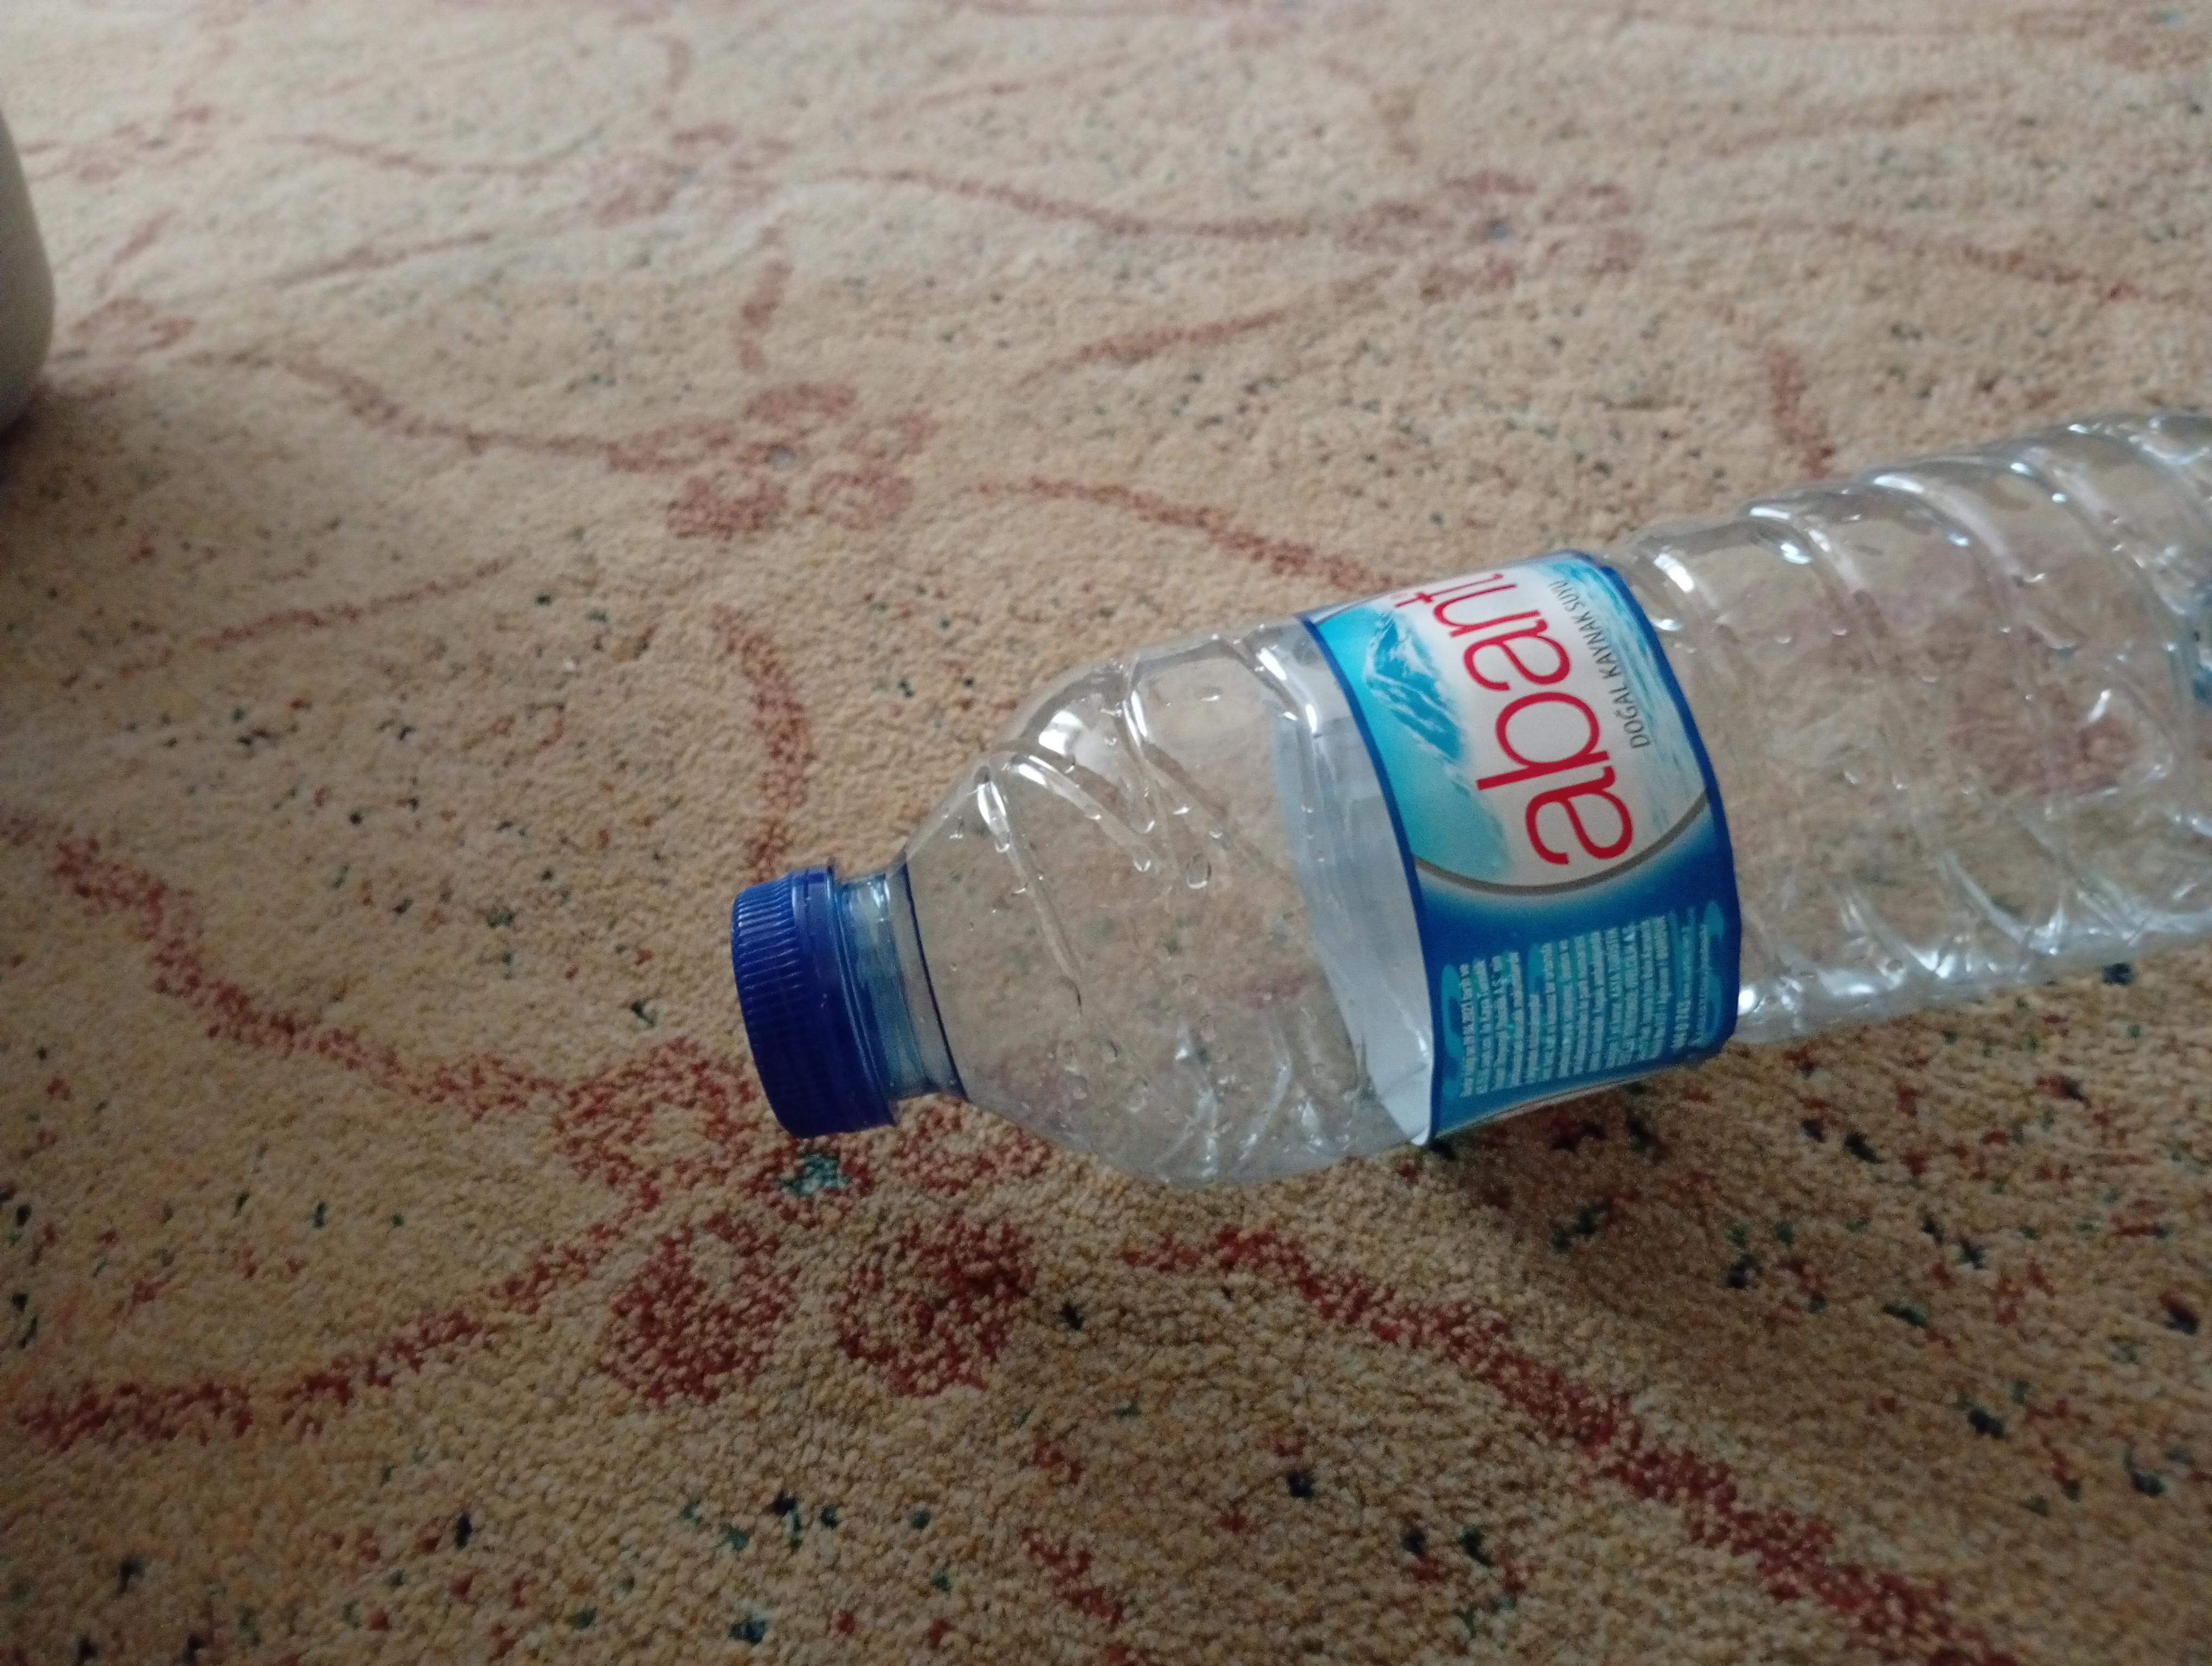etiketli: (694, 394, 2212, 1237)
